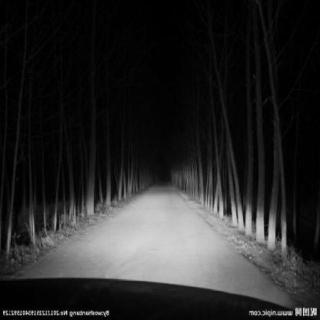other: (17, 180, 283, 278)
